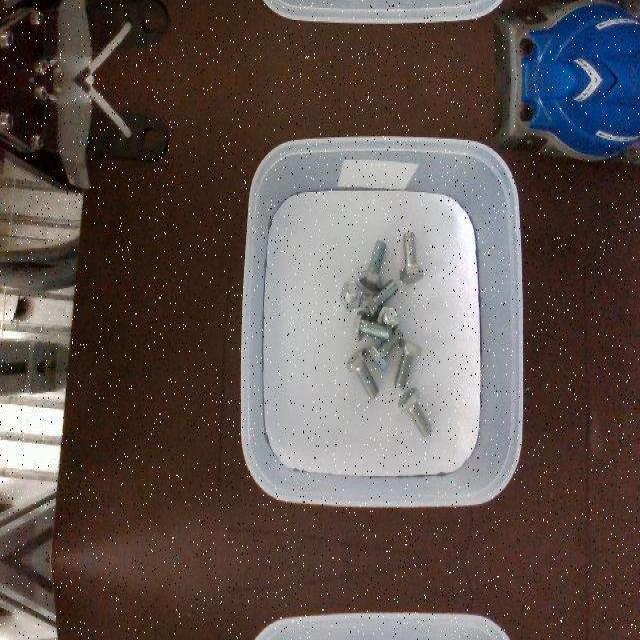screw: (397, 387, 432, 437), (346, 348, 379, 400), (360, 278, 398, 318), (394, 337, 422, 389), (360, 239, 387, 289), (399, 232, 423, 284), (353, 310, 392, 342), (339, 279, 361, 309)
